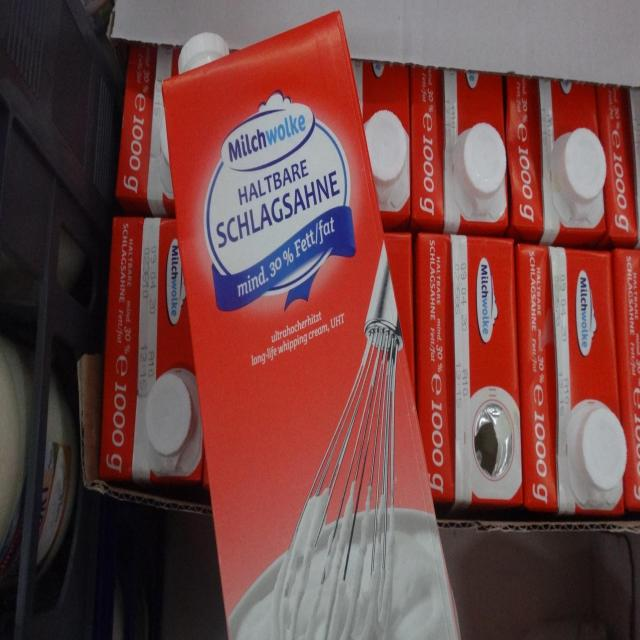cream: (161, 13, 458, 638), (515, 245, 626, 515), (414, 233, 522, 507), (100, 217, 203, 483), (506, 76, 606, 246), (410, 68, 508, 235), (116, 44, 180, 216), (353, 61, 410, 230)
